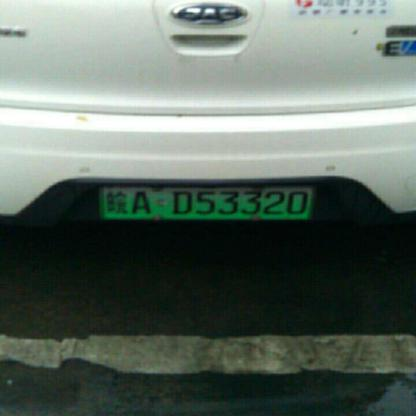lp: (101, 186, 314, 219)
